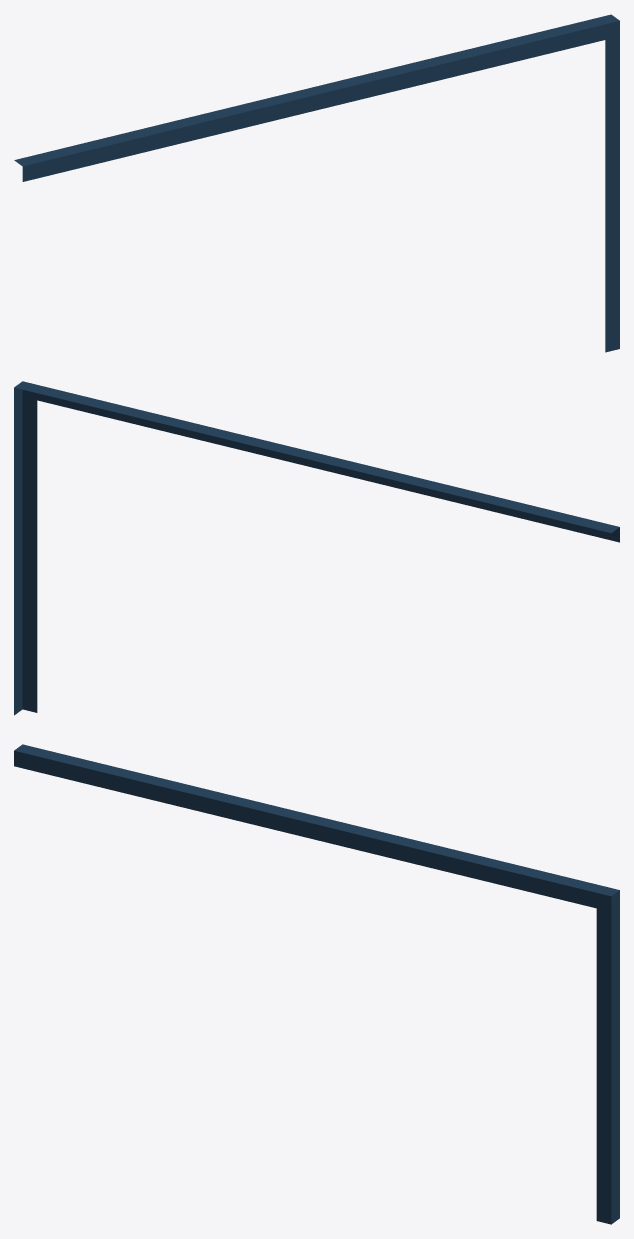
Rendered from sweethome3d-contributions-fence-grid.glb.
The picture shows the model from 3 angles, top to bottom: view 1: azimuth 30°, elevation 25°; view 2: azimuth 150°, elevation 25°; view 3: azimuth 330°, elevation 25°; orthographic projection.
Parts seen in each view (by area): view 1: 1_1; view 2: 1_1; view 3: 1_1.
Boxes of the visible parts, x1=… form: 1_1: x1=14, y1=14, x2=619, y2=352; 1_1: x1=14, y1=381, x2=619, y2=715; 1_1: x1=14, y1=744, x2=619, y2=1224.
Size of the model in its own units: 200 by 105 by 5.
